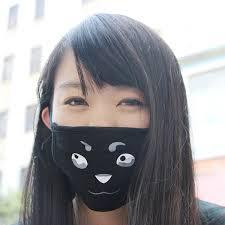WRONG: (46, 70, 160, 210)
